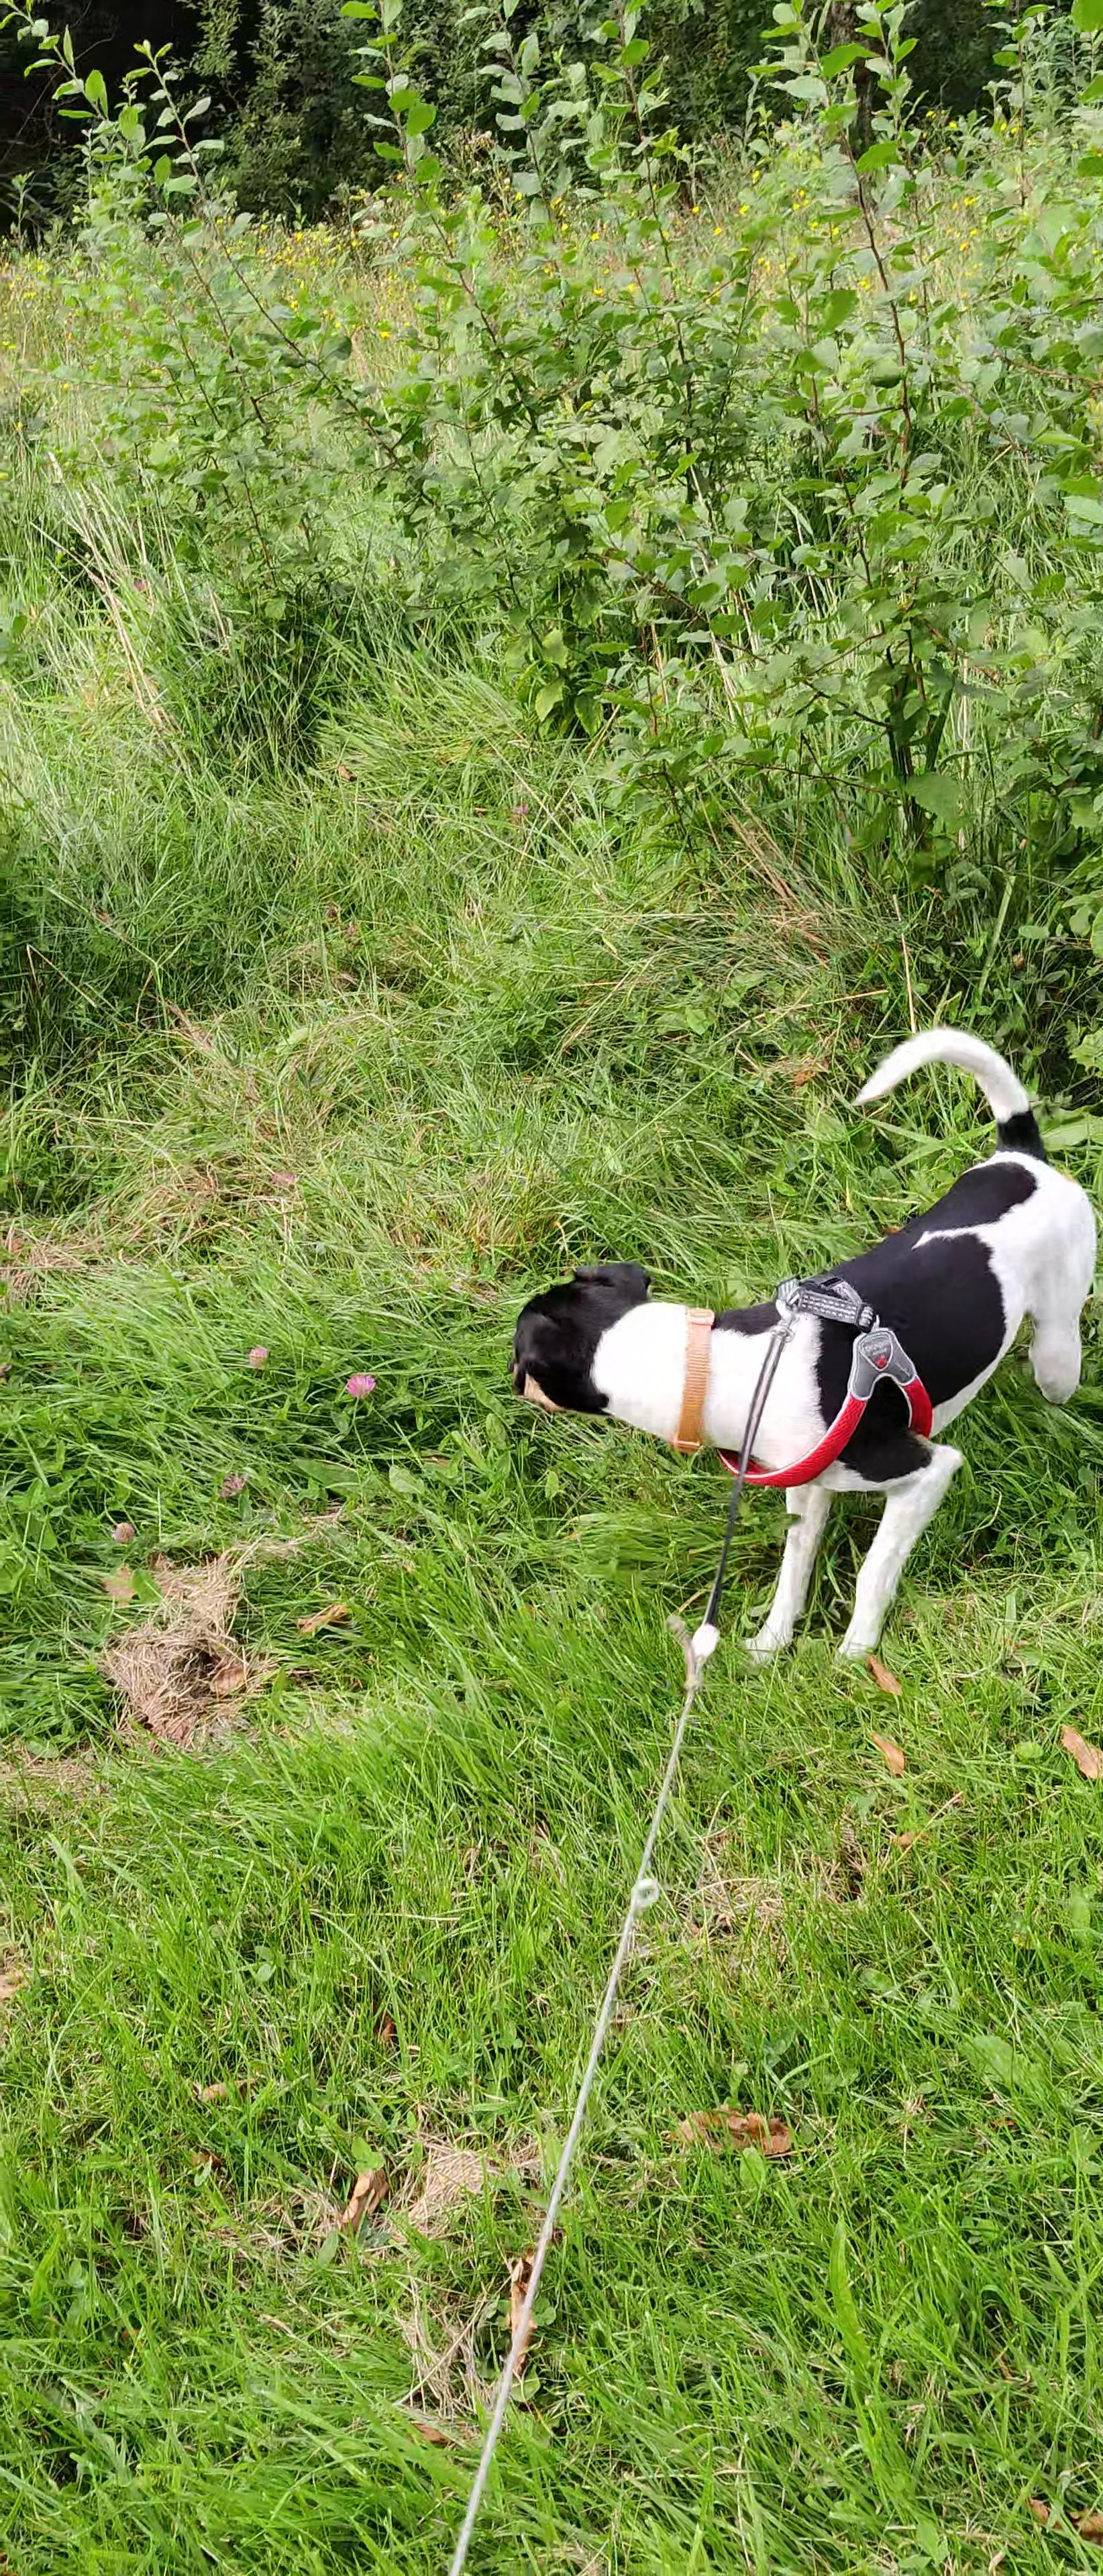Dog: (490, 989, 1100, 1677)
